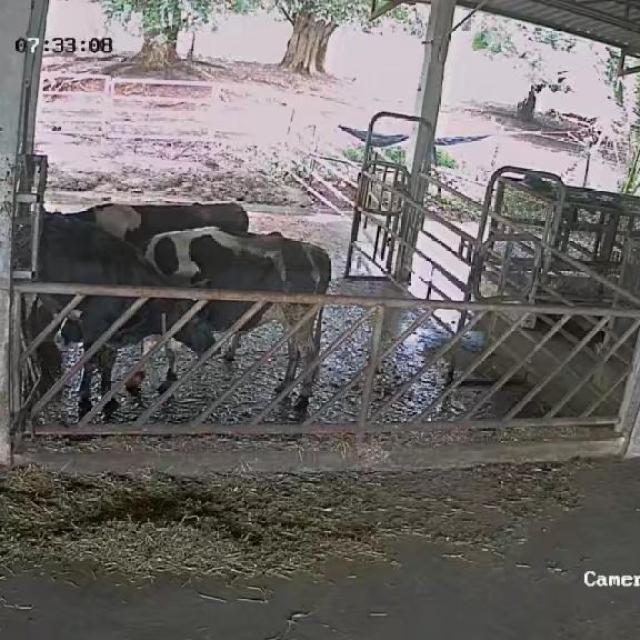standing: (13, 210, 228, 420), (134, 225, 343, 421), (78, 192, 253, 270)
